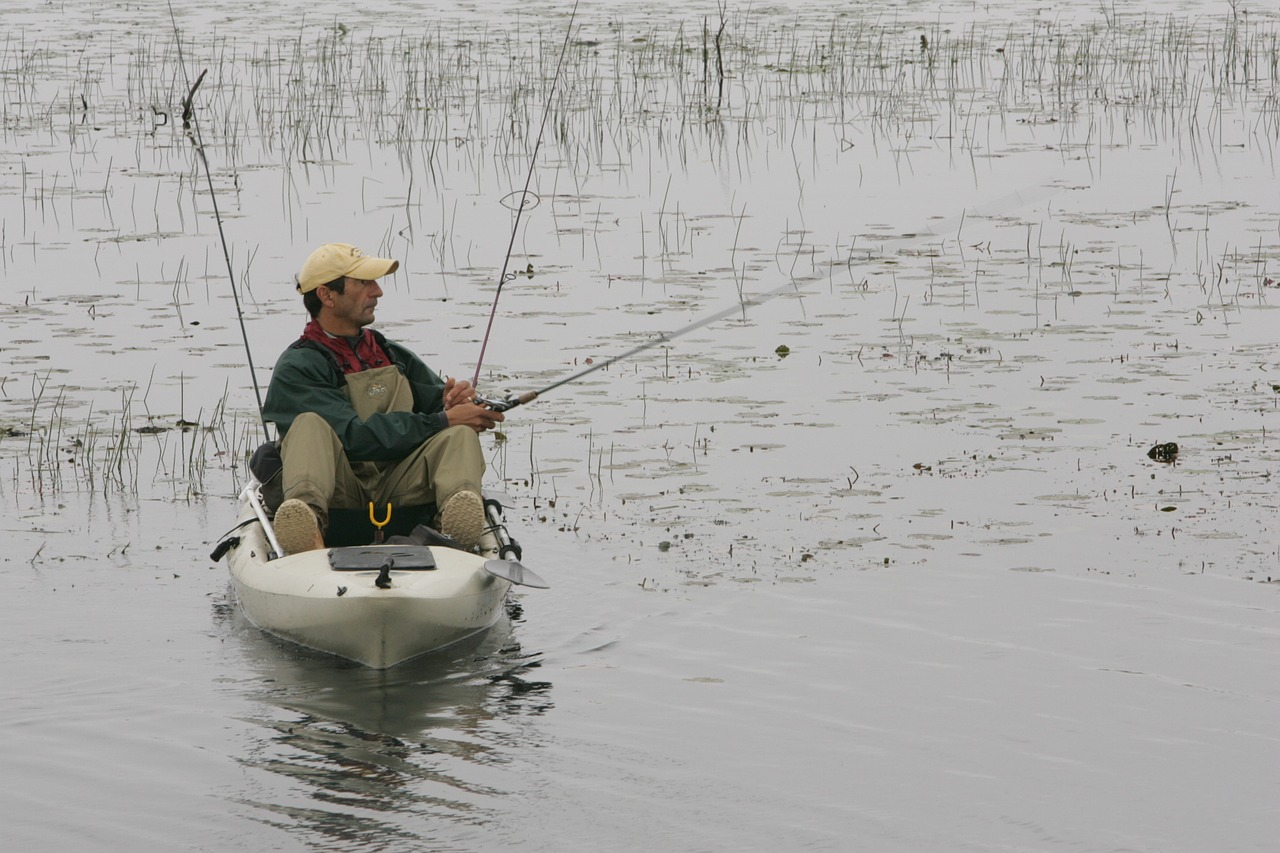kayak: (219, 476, 519, 682)
